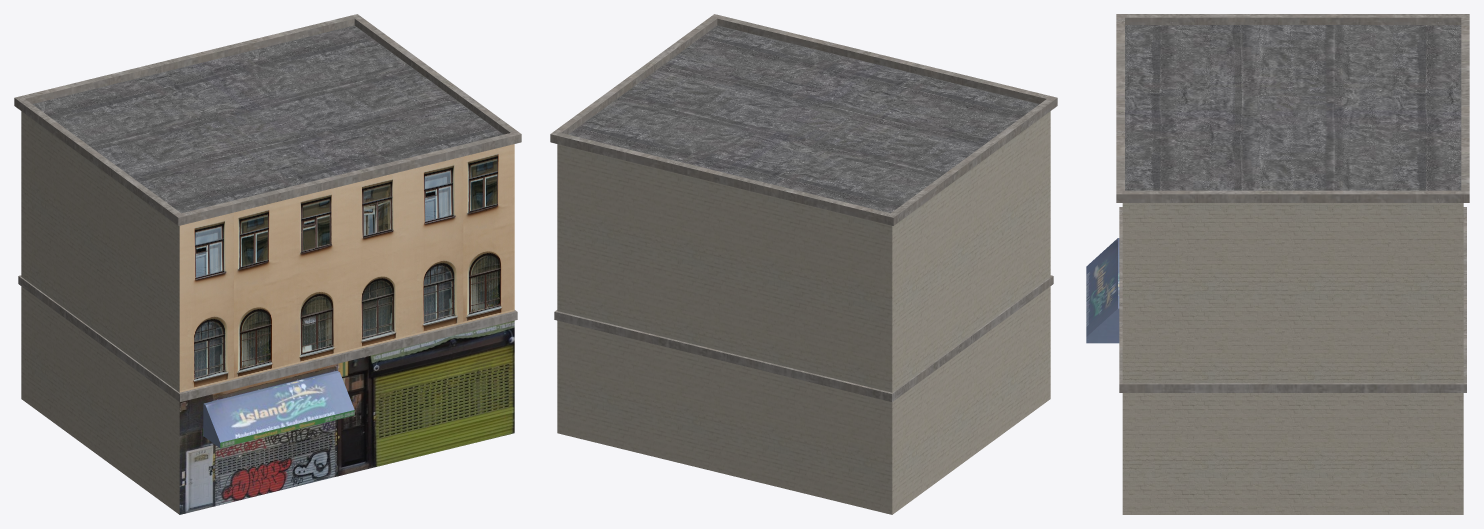
Rendered from building_09.glb.
3 views of the same model, side by side, from view 1: azimuth 30°, elevation 25°; view 2: azimuth 150°, elevation 25°; view 3: azimuth 270°, elevation 25° (orthographic). The views are drawn at different scales.
Visible parts, largest first — view 1: building_09_mesh; view 2: building_09_mesh; view 3: building_09_mesh.
Boxes of the visible parts, bbox=[...] form: building_09_mesh: bbox=[14, 14, 521, 514]; building_09_mesh: bbox=[550, 14, 1057, 514]; building_09_mesh: bbox=[1086, 14, 1469, 514].
Size of the model in its own units: 15.52 by 12.97 by 13.95.
6 materials, 6 textured.
